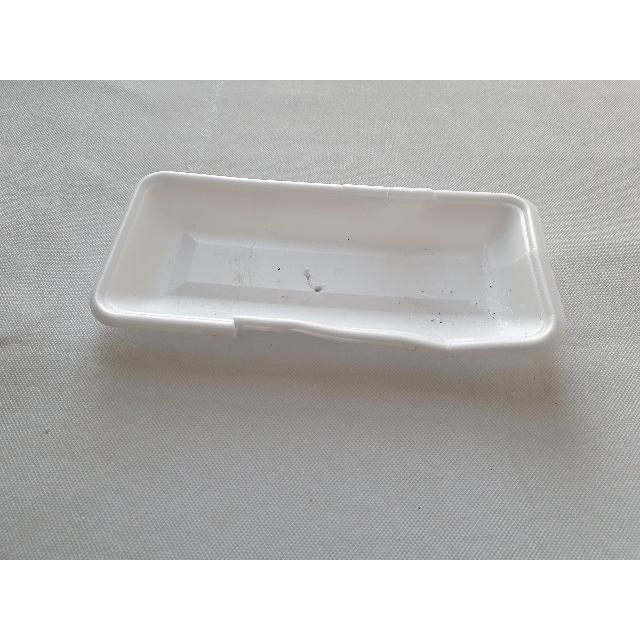Recipiente plastico: (92, 172, 564, 352)
